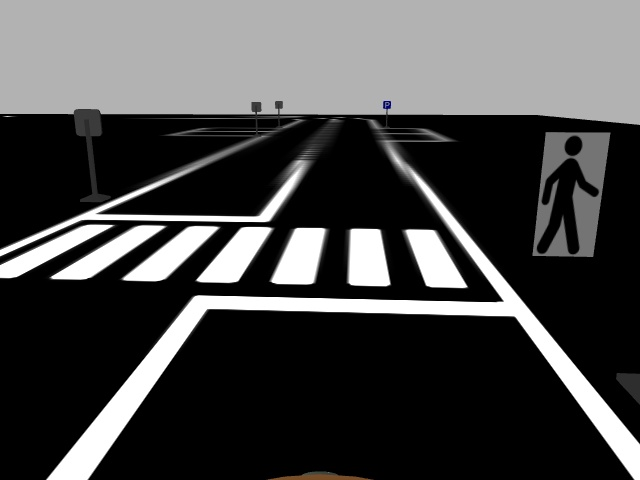parking: (381, 99, 392, 111)
pedestrian: (530, 129, 612, 258)
